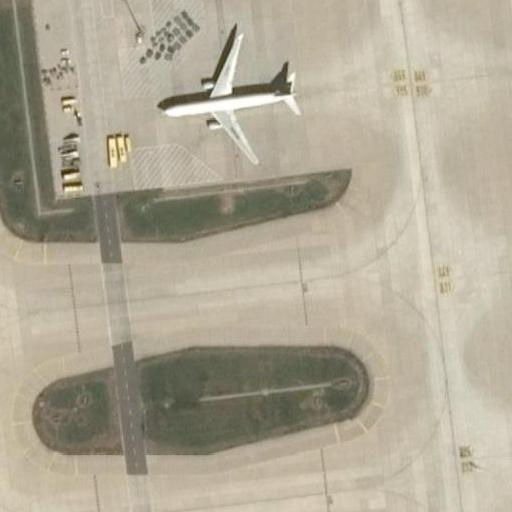Aircraft: (152, 30, 306, 162)
